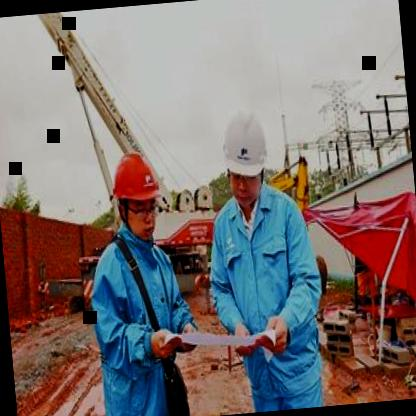helmet: (212, 101, 275, 216), (106, 144, 170, 244)
